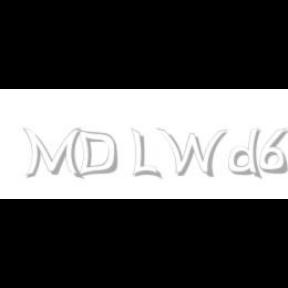6: (259, 128, 288, 175)
D: (74, 128, 118, 178)
L: (131, 128, 159, 180)
M: (22, 128, 82, 180)
W: (156, 128, 228, 178)
d: (228, 128, 266, 180)
